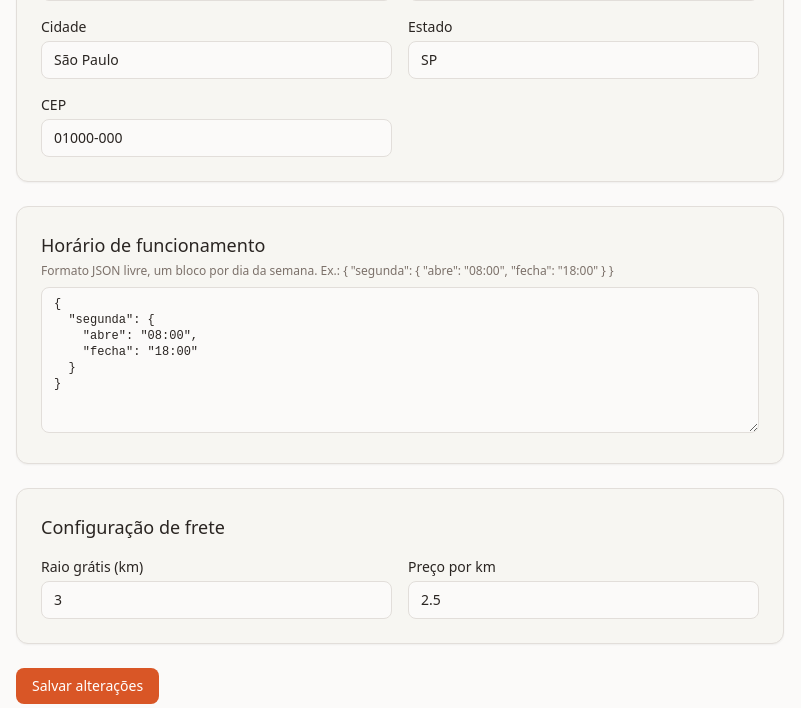
ConfiguracoesLojaPage › mostra erro de validação quando a API rejeita (frete negativo)
This screenshot has width=801, height=708.
(page scrolled)
Step 1. Replace the text in the number field labelled "Raio grátis (km)" with "-1" → (216, 600), box [41,581,392,619]
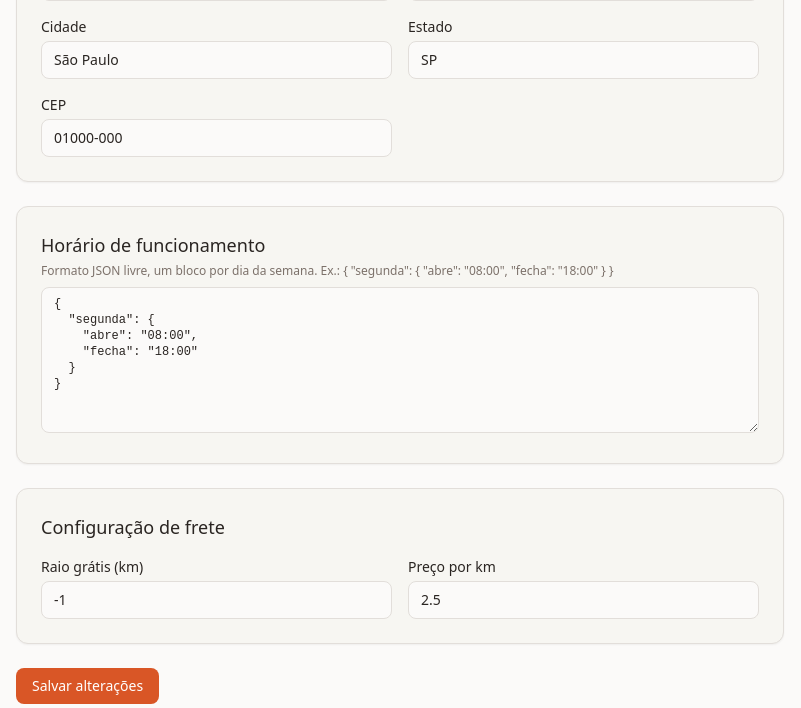
Step 2. Click the button "Salvar alterações" → (88, 686), box [16,668,159,704]
(page scrolled)
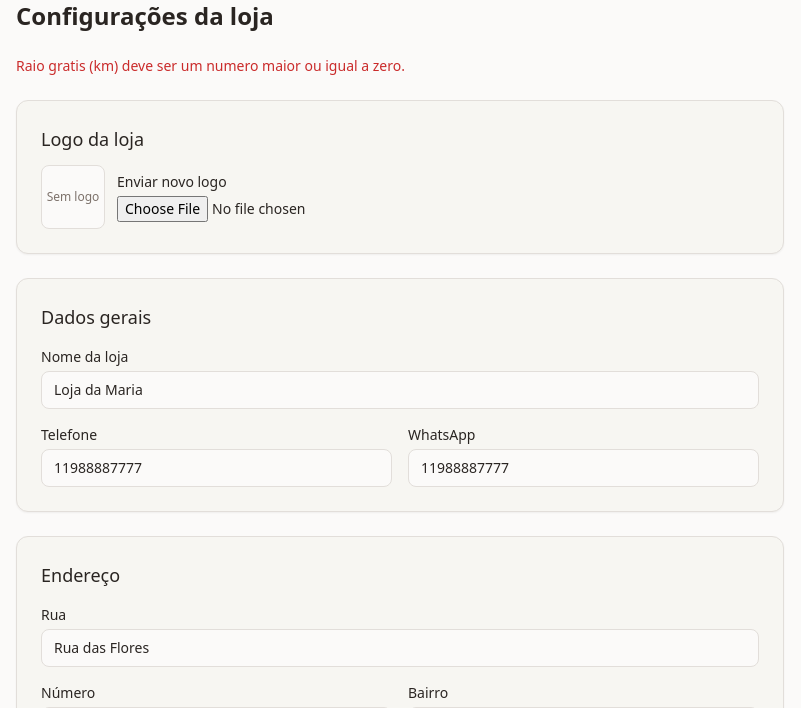
Expected: the message shows "maior ou igual a zero", [16,56,405,75]
